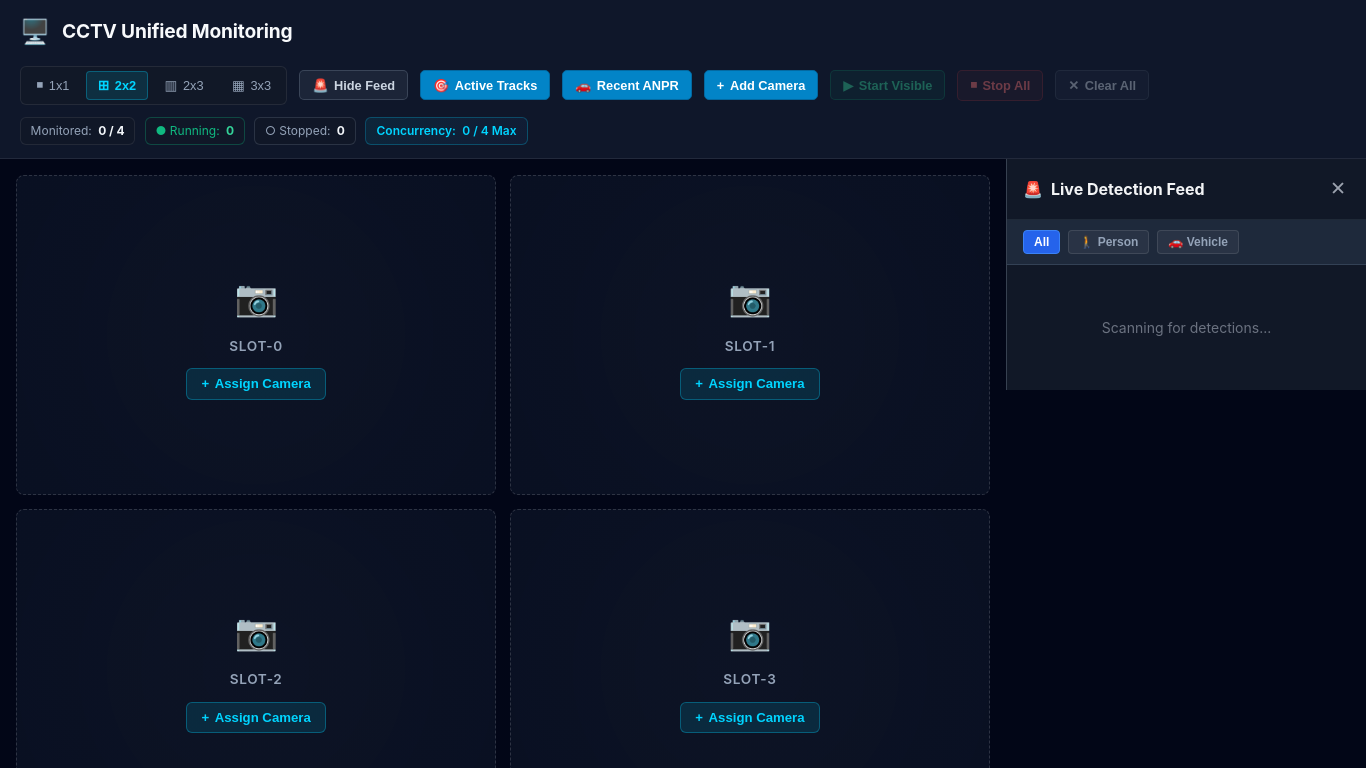
Test: Phase 6 — MonitoringPage & Multi-Camera Grid › 3. opens camera picker and selects a camera into an empty slot
The image size is (1366, 768).
// Click assign on slot 0
Click the button "+ Assign Camera" below "SLOT-0" at (256, 384), box [186,368,326,400]
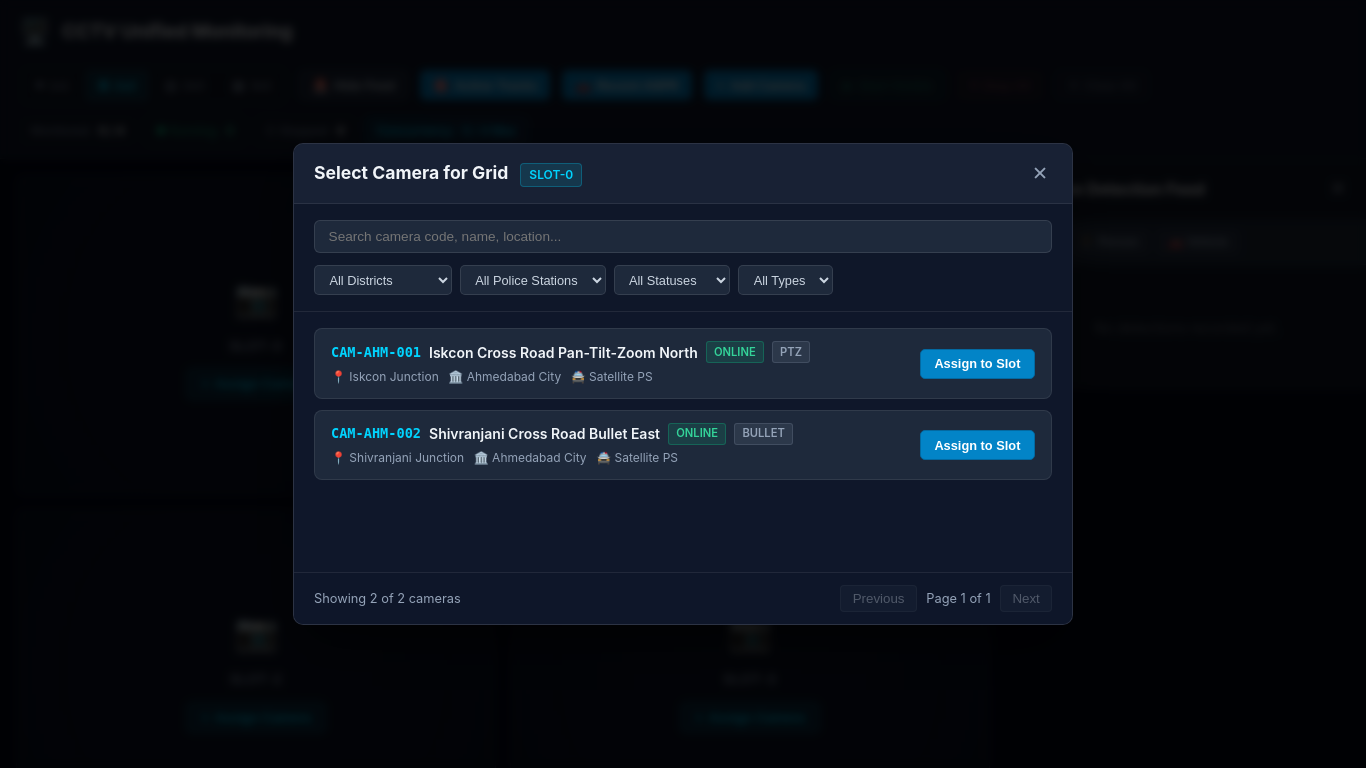
Check: the dialog named "Camera Picker" is shown
Check: the text "CAM-AHM-001" is shown, box [331,342,421,363]
// Click assign for CAM-AHM-001
Click the button "Assign to Slot" next to "PTZ" at (977, 364), box [920,349,1035,379]
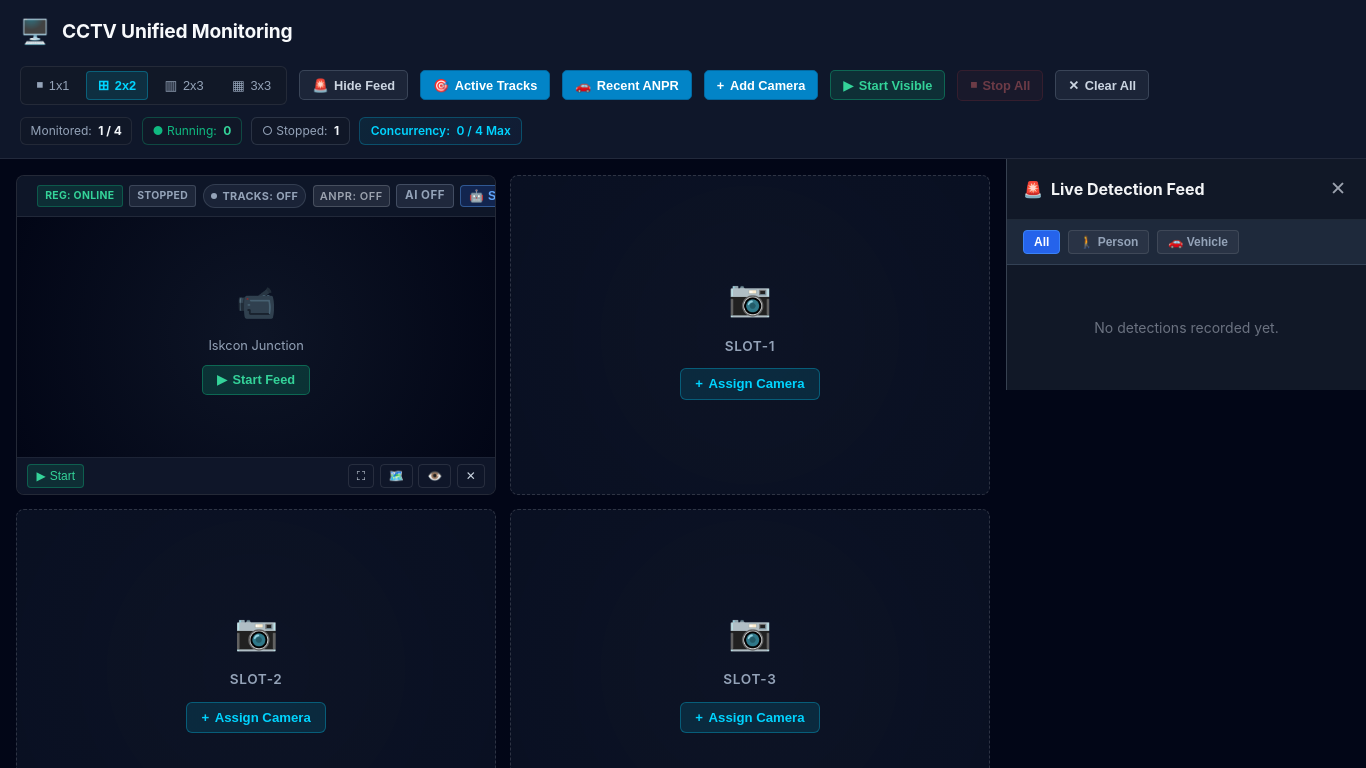
Check: the text "Reg: Online" is shown, box [37,185,123,207]
Check: the text "Stopped" is shown, box [129,185,196,207]
